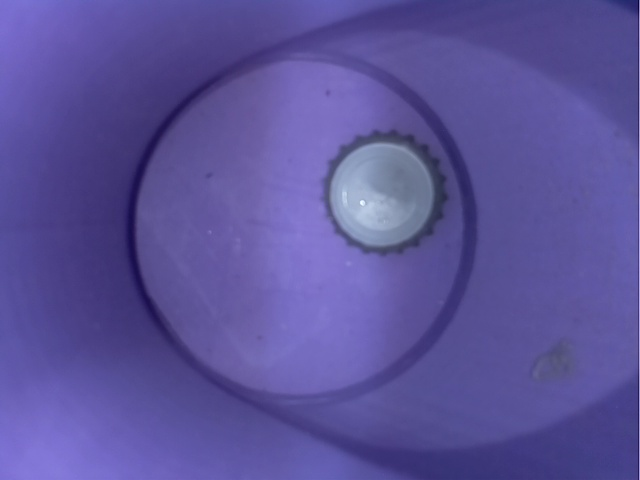capsule: (307, 122, 470, 257)
